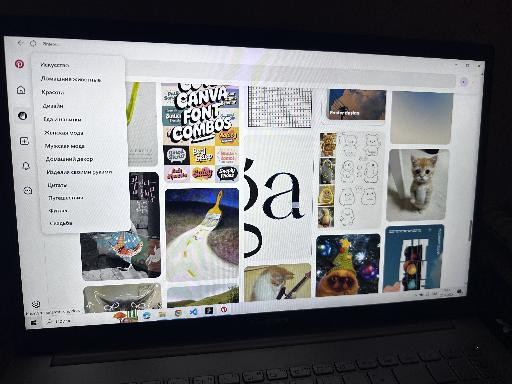pinterest: (7, 53, 478, 301)
